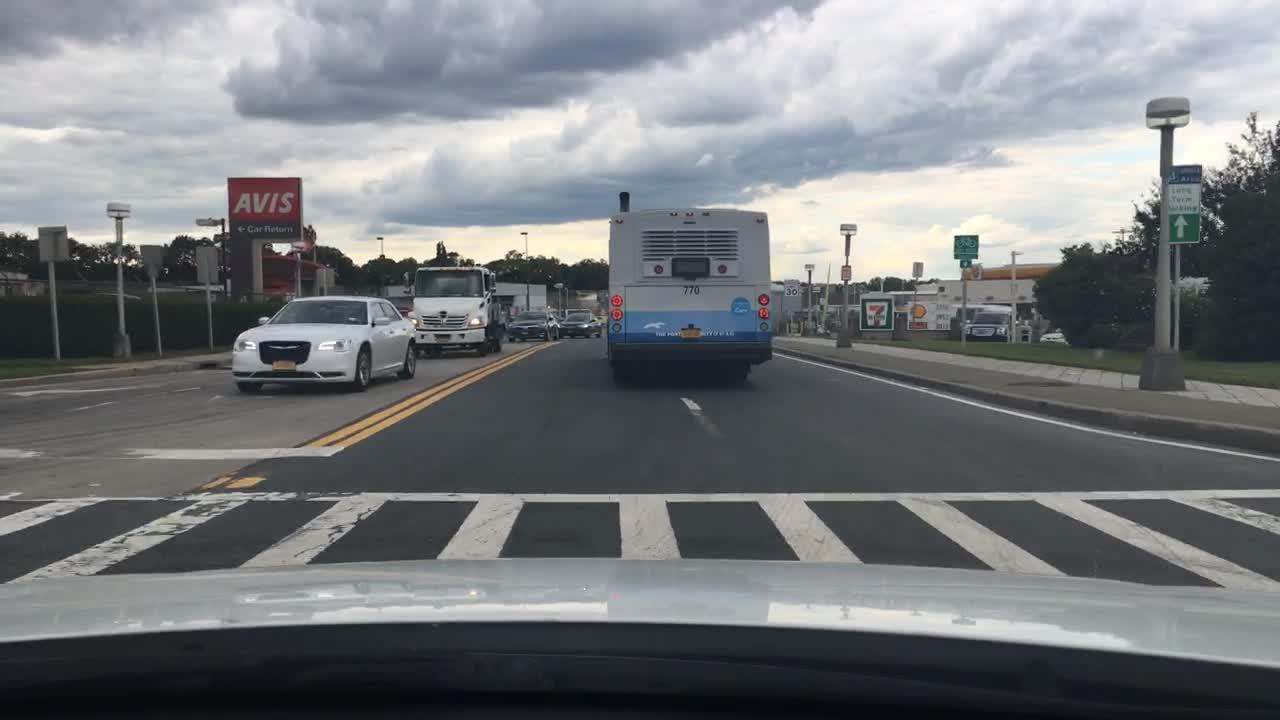Chrysler: (267, 343, 301, 351)
